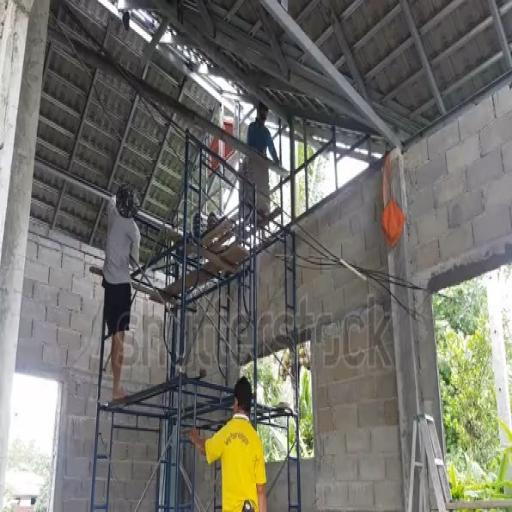Helmet-Detection: (116, 181, 140, 216), (235, 381, 254, 414), (254, 105, 268, 123)
